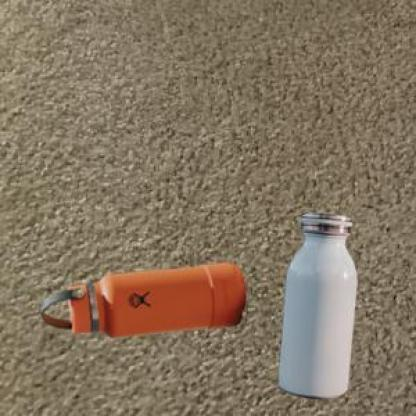bottle: (37, 262, 249, 339), (277, 211, 359, 402)
